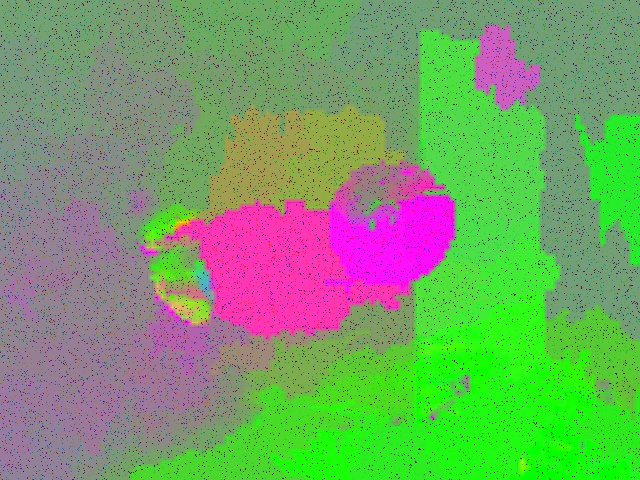two: (364, 200, 407, 246)
